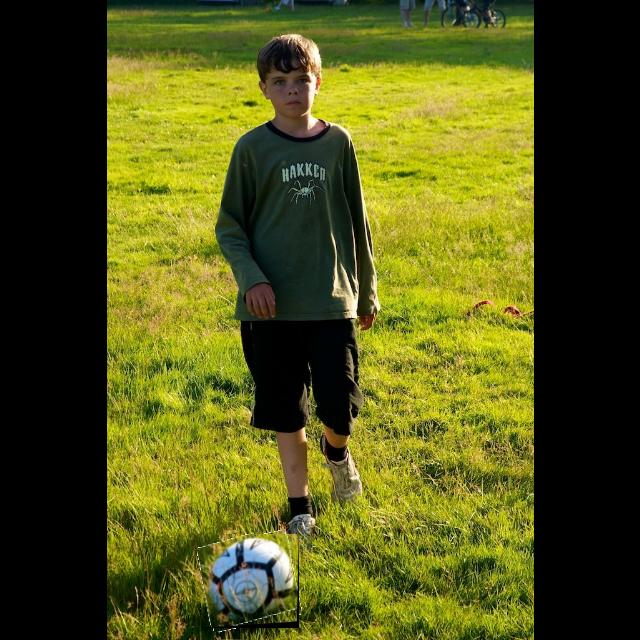Football: (201, 534, 299, 628)
